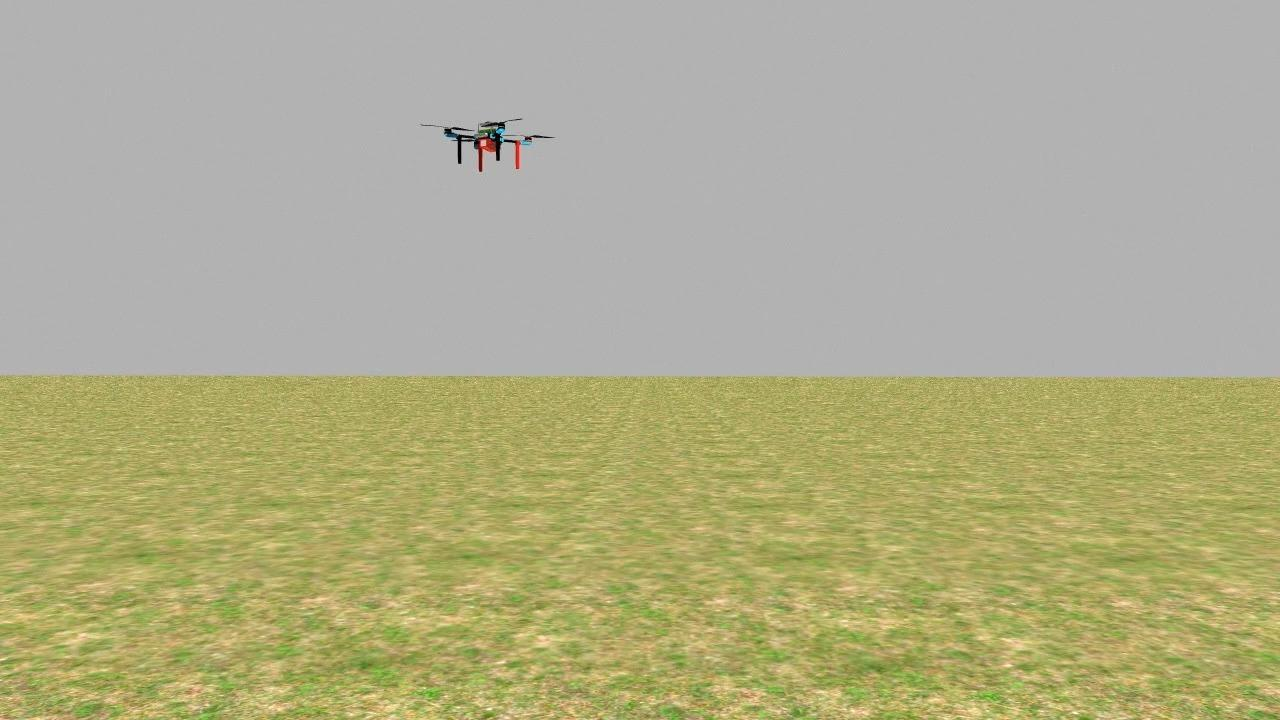UAV: (418, 102, 556, 188)
